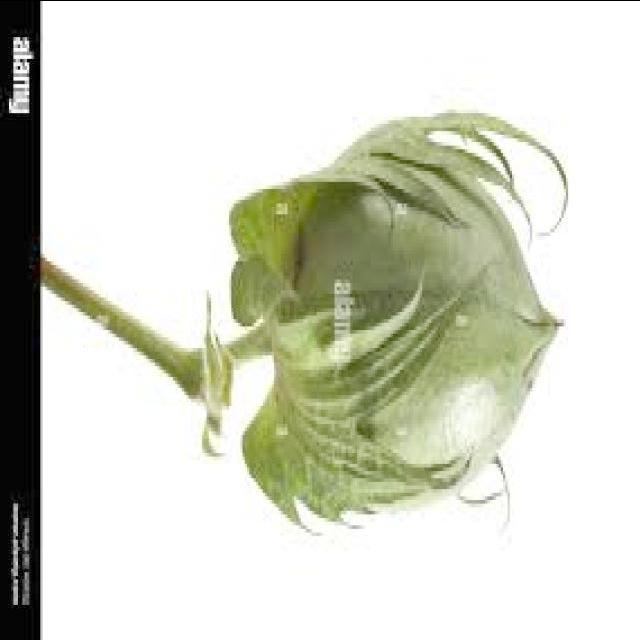Early Boll: (219, 112, 574, 532)
